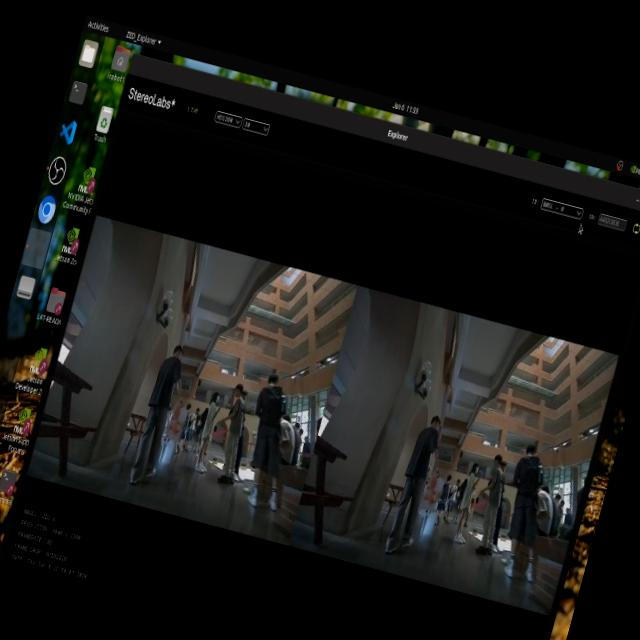red: (164, 398, 189, 438), (421, 476, 444, 516)
